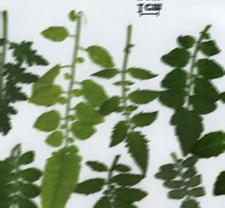Tomato leaf: (37, 146, 84, 208), (28, 102, 68, 138), (34, 16, 73, 46), (31, 61, 67, 93), (30, 82, 65, 109), (82, 41, 114, 70), (82, 76, 108, 110), (72, 105, 104, 128), (67, 119, 98, 142)
